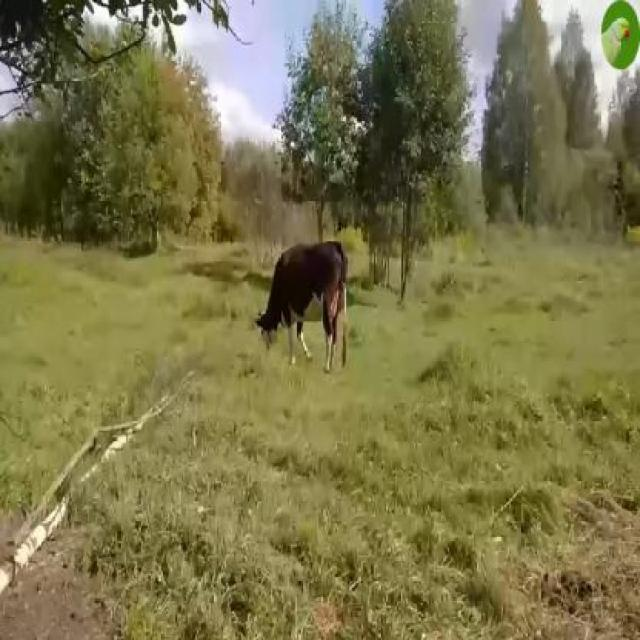Cow: (258, 242, 351, 378)
